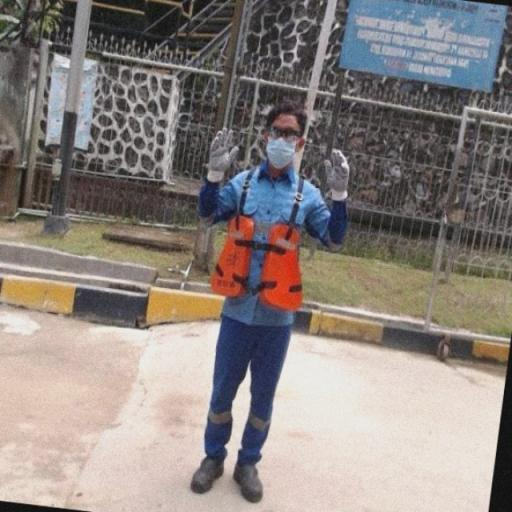Person: (169, 87, 371, 506)
boots: (184, 450, 226, 499), (232, 458, 272, 504)
gloves: (199, 125, 245, 189), (320, 147, 356, 205)
goggles: (268, 122, 306, 144)
none: (266, 100, 316, 130)
vest: (227, 171, 308, 322)
